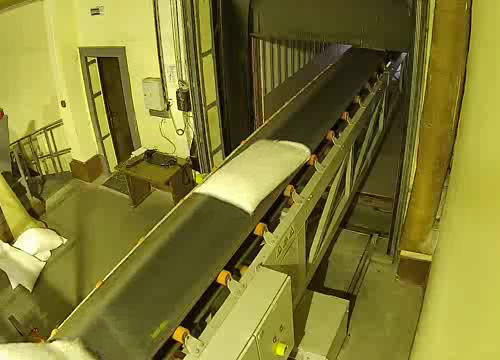bag: (190, 134, 317, 217), (1, 333, 106, 360)
